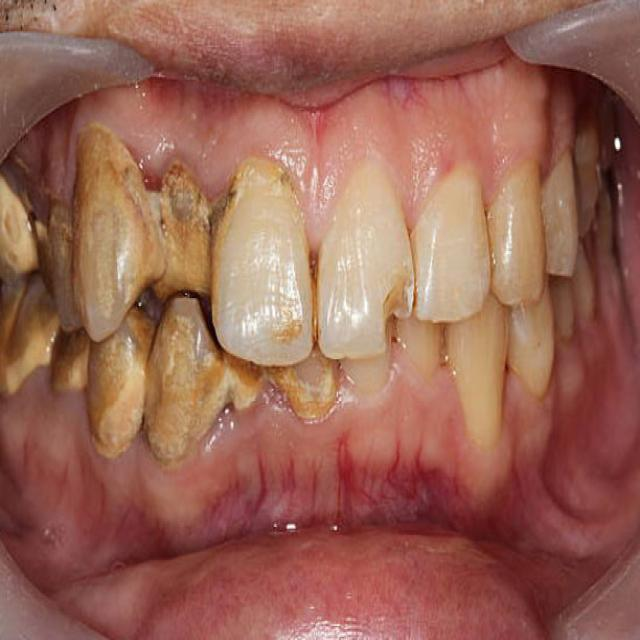caries: (376, 270, 424, 358)
